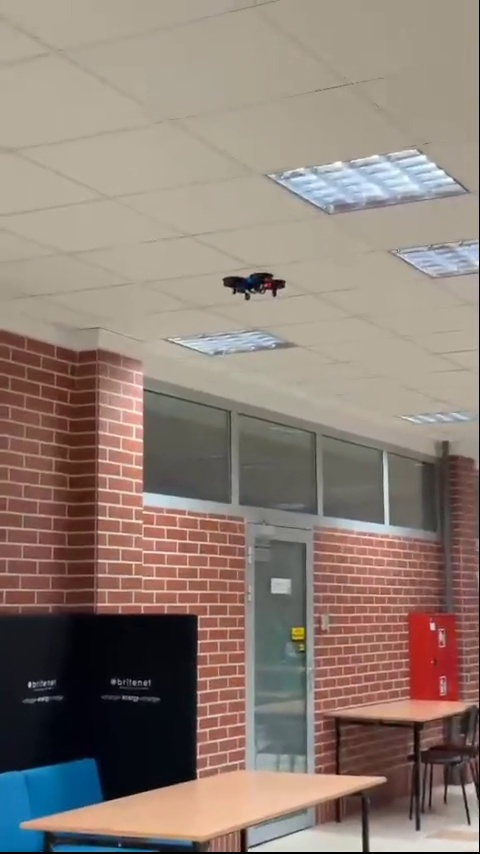drone: (219, 273, 287, 300)
